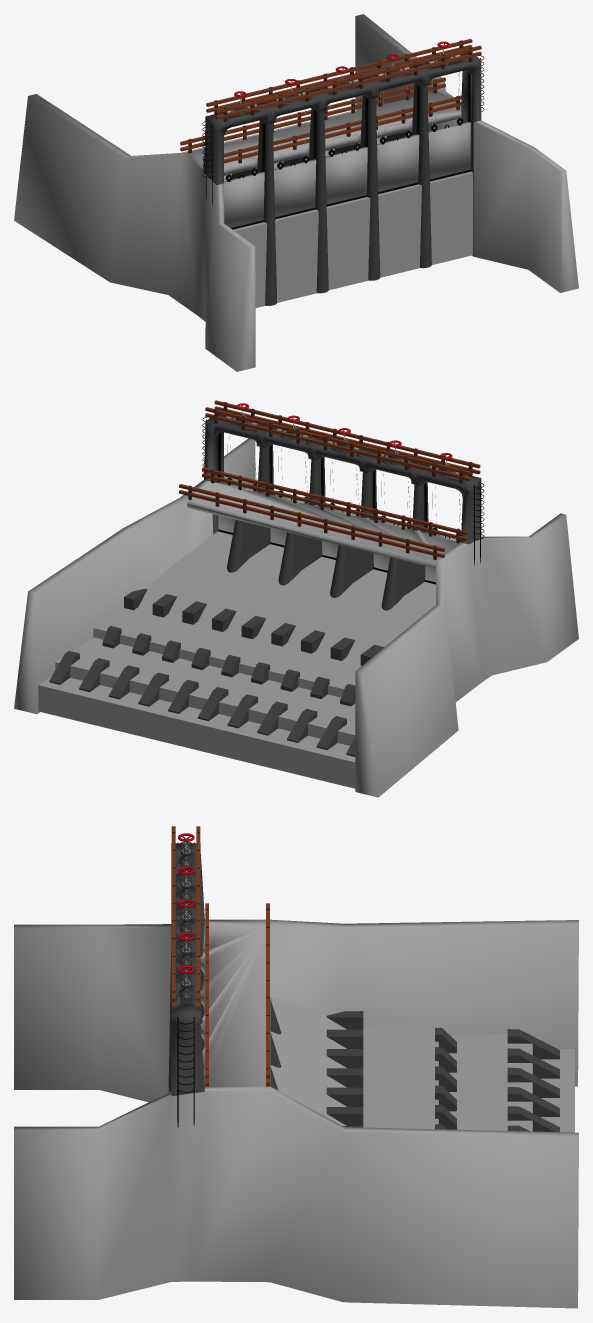
Rendered from Dam.glb.
3 renders of one model, top to bottom at view 1: azimuth 30°, elevation 25°; view 2: azimuth 150°, elevation 25°; view 3: azimuth 270°, elevation 25°, orthographic. The views are drawn at different scales.
Parts seen in each view (by area): view 1: Side Pillar Base, Bottom Base, Dam Door, Pillar Base, Walls, Engine On Top; view 2: Side Pillar Base, Bottom Base, Bottom Rocks, Walls, Pillar Base, Dam Door, Engine On Top; view 3: Side Pillar Base, Bottom Base, Bottom Rocks, Walls, Engine On Top, Pillar Base, Side Ladder.
Boxes of the visible parts, box(x1,y1,x2,y2) form: Side Pillar Base: box(14, 14, 578, 371); Bottom Base: box(180, 110, 472, 307); Dam Door: box(224, 61, 470, 227); Pillar Base: box(231, 82, 431, 305); Walls: box(180, 39, 481, 167); Engine On Top: box(222, 41, 461, 115); Side Pillar Base: box(14, 414, 578, 797); Bottom Base: box(38, 529, 435, 788); Bottom Rocks: box(49, 588, 384, 756); Walls: box(179, 400, 480, 559); Pillar Base: box(227, 443, 428, 610); Dam Door: box(218, 416, 461, 582); Engine On Top: box(225, 403, 464, 477); Side Pillar Base: box(14, 843, 578, 1308); Bottom Base: box(270, 997, 574, 1132); Bottom Rocks: box(326, 1011, 559, 1132); Walls: box(171, 826, 269, 1086); Engine On Top: box(178, 833, 194, 1005); Pillar Base: box(168, 935, 281, 1092); Side Ladder: box(177, 842, 194, 1127).
Bounding box in the file's own units: 93.63 × 52.88 × 94.41.
